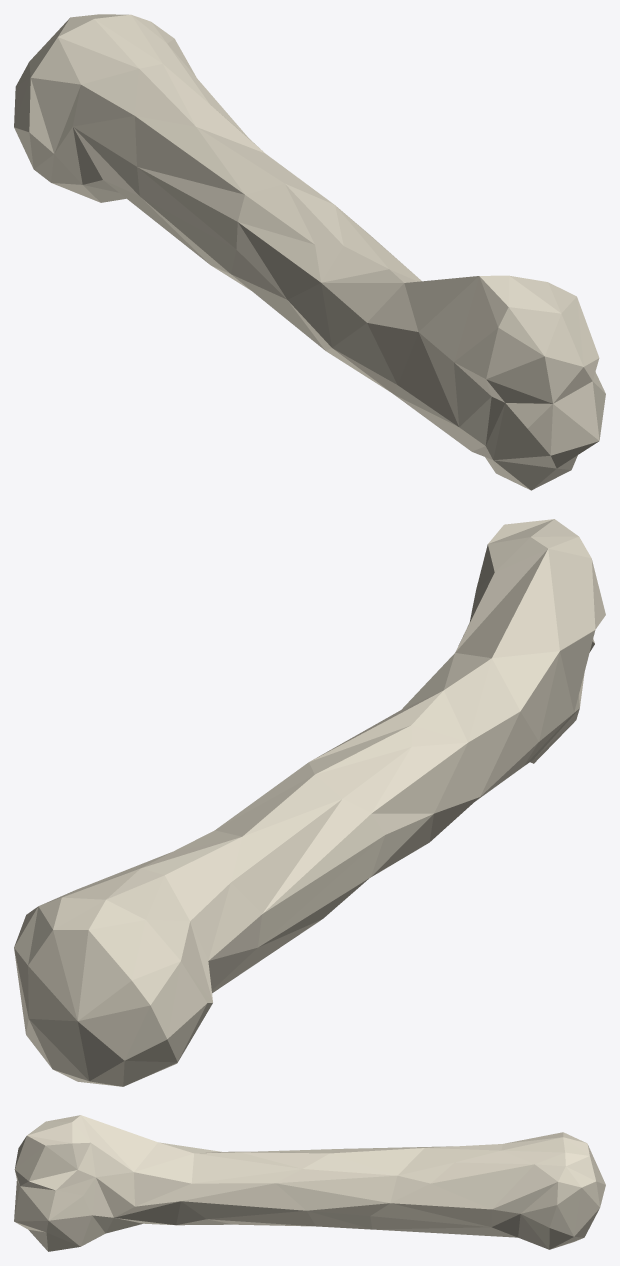
The model's file is Bone2.fbx.
3 views of the same model, one above another, from view 1: azimuth 30°, elevation 25°; view 2: azimuth 150°, elevation 25°; view 3: azimuth 270°, elevation 25° (orthographic). The views are drawn at different scales.
Visible parts, largest first — view 1: Bone2; view 2: Bone2; view 3: Bone2.
Boxes of the visible parts, <box> form: Bone2: <box>14,14,605,490</box>; Bone2: <box>14,519,605,1086</box>; Bone2: <box>14,1115,605,1251</box>.
Size of the model in its own units: 35.65 by 40.63 by 174.
